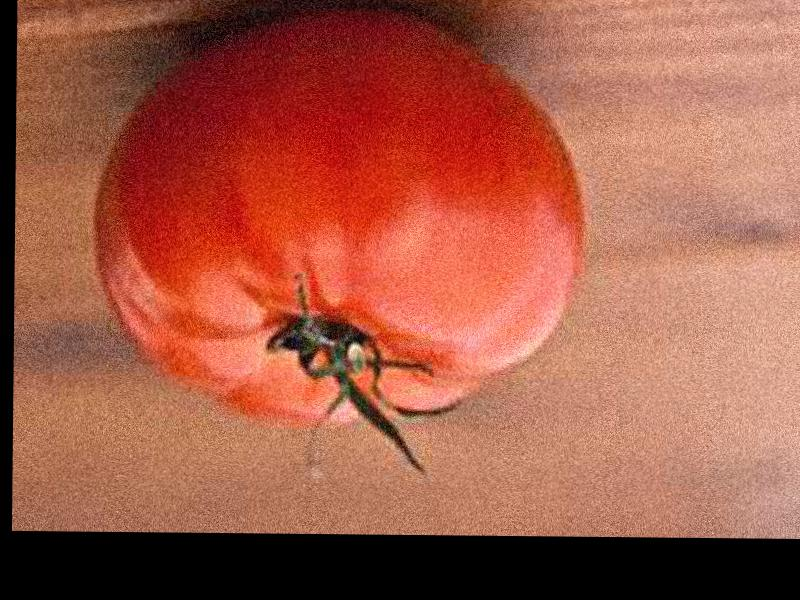Tomato: (95, 6, 590, 428)
